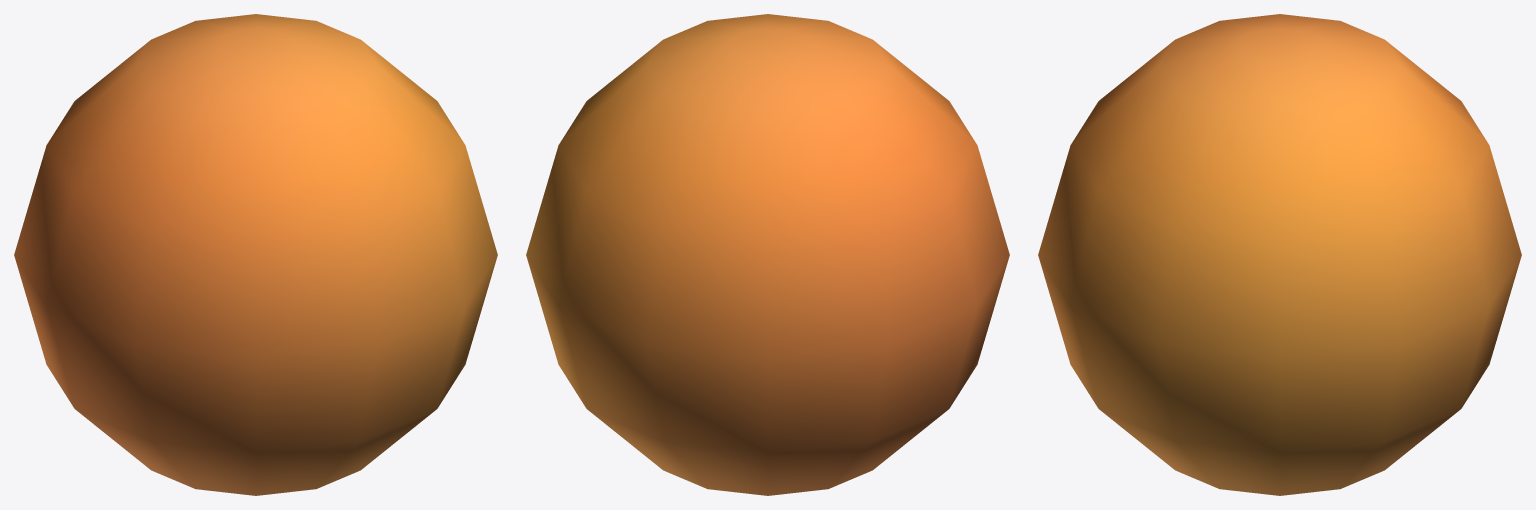
The model's file is Volleyball_G.fbx.
3 renders of one model, left to right at view 1: azimuth 30°, elevation 25°; view 2: azimuth 150°, elevation 25°; view 3: azimuth 270°, elevation 25°, orthographic.
Visible parts, largest first — view 1: Volleyball_G; view 2: Volleyball_G; view 3: Volleyball_G.
Part boxes in pixels (bbox=[...]): Volleyball_G: bbox=[14, 14, 497, 495]; Volleyball_G: bbox=[526, 14, 1009, 495]; Volleyball_G: bbox=[1038, 14, 1521, 495].
Bounding box in the file's own units: 33.6 × 32.1 × 33.6.
